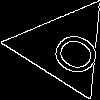O: (38, 22, 100, 81)
